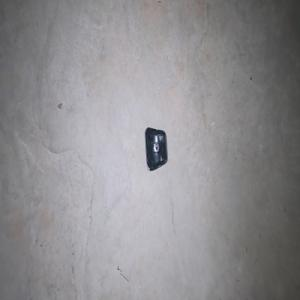LuggagePart: (144, 126, 167, 171)
